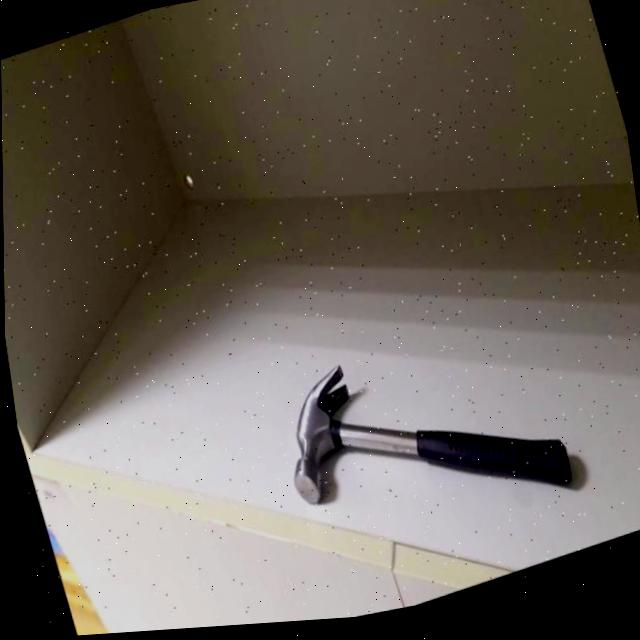hammer: (285, 332, 565, 508)
